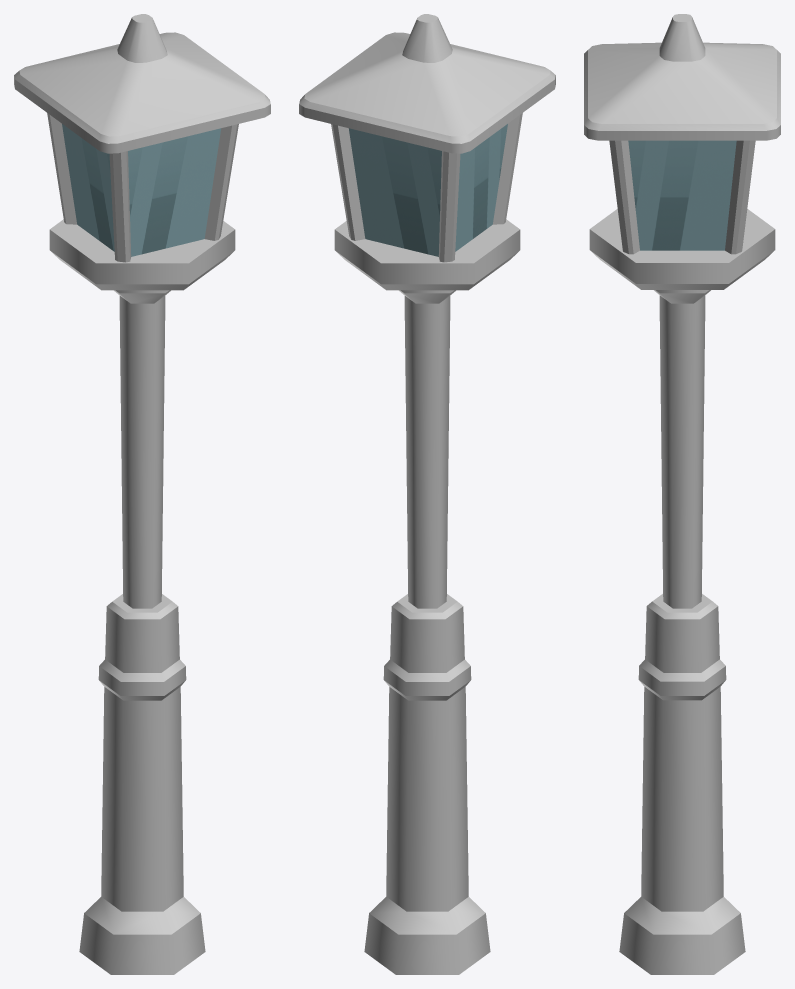
Rendered from StreetLamp_3_C.fbx.
3 views of the same model, side by side, from view 1: azimuth 30°, elevation 25°; view 2: azimuth 150°, elevation 25°; view 3: azimuth 270°, elevation 25° (orthographic).
Visible parts, largest first — view 1: StreetLamp_3_C; view 2: StreetLamp_3_C; view 3: StreetLamp_3_C.
Boxes of the visible parts, box(x1,y1,x2,y2) form: StreetLamp_3_C: box(14, 14, 270, 974); StreetLamp_3_C: box(299, 14, 555, 974); StreetLamp_3_C: box(584, 14, 780, 974).
Size of the model in its own units: 74.08 by 388 by 74.08.
